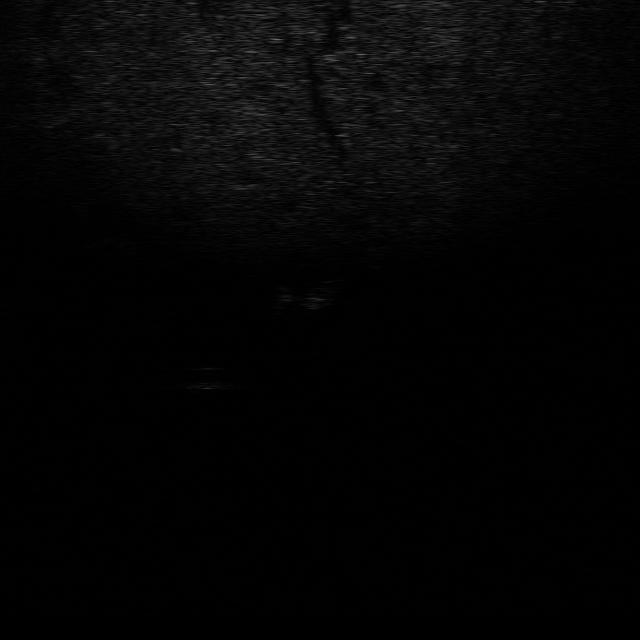ball: (182, 360, 238, 392)
human body: (269, 276, 339, 317)
